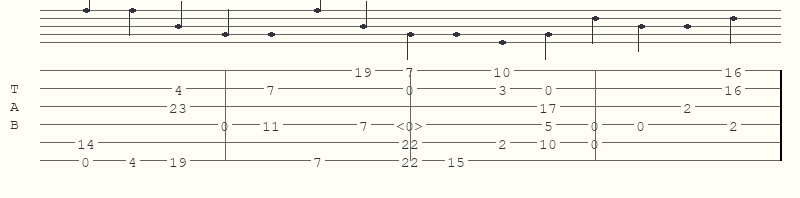0: (81, 154, 94, 167), (220, 118, 233, 131), (405, 82, 418, 95), (544, 82, 557, 95), (590, 136, 603, 149), (590, 118, 603, 131), (636, 118, 649, 131)
10: (493, 64, 515, 77), (539, 136, 561, 149)
11: (262, 118, 284, 131)
14: (77, 136, 99, 149)
15: (447, 154, 469, 167)
16: (724, 82, 746, 95), (724, 64, 746, 77)
17: (539, 100, 561, 113)
19: (169, 154, 191, 167), (354, 64, 376, 77)
2: (498, 136, 511, 149), (683, 100, 696, 113), (729, 118, 742, 131)
22: (401, 136, 423, 149), (401, 154, 423, 167)
23: (169, 100, 191, 113)
3: (498, 82, 511, 95)
4: (128, 154, 141, 167), (174, 82, 187, 95)
5: (544, 118, 557, 131)
7: (266, 82, 279, 95), (313, 154, 326, 167), (359, 118, 372, 131), (405, 64, 418, 77)
harmonic: (396, 118, 427, 131)
